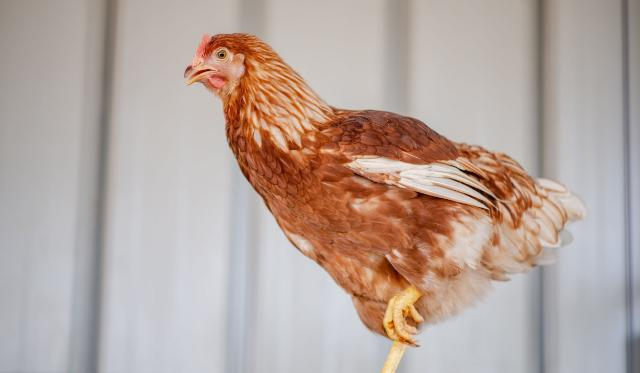Chicken: (182, 31, 590, 370)
